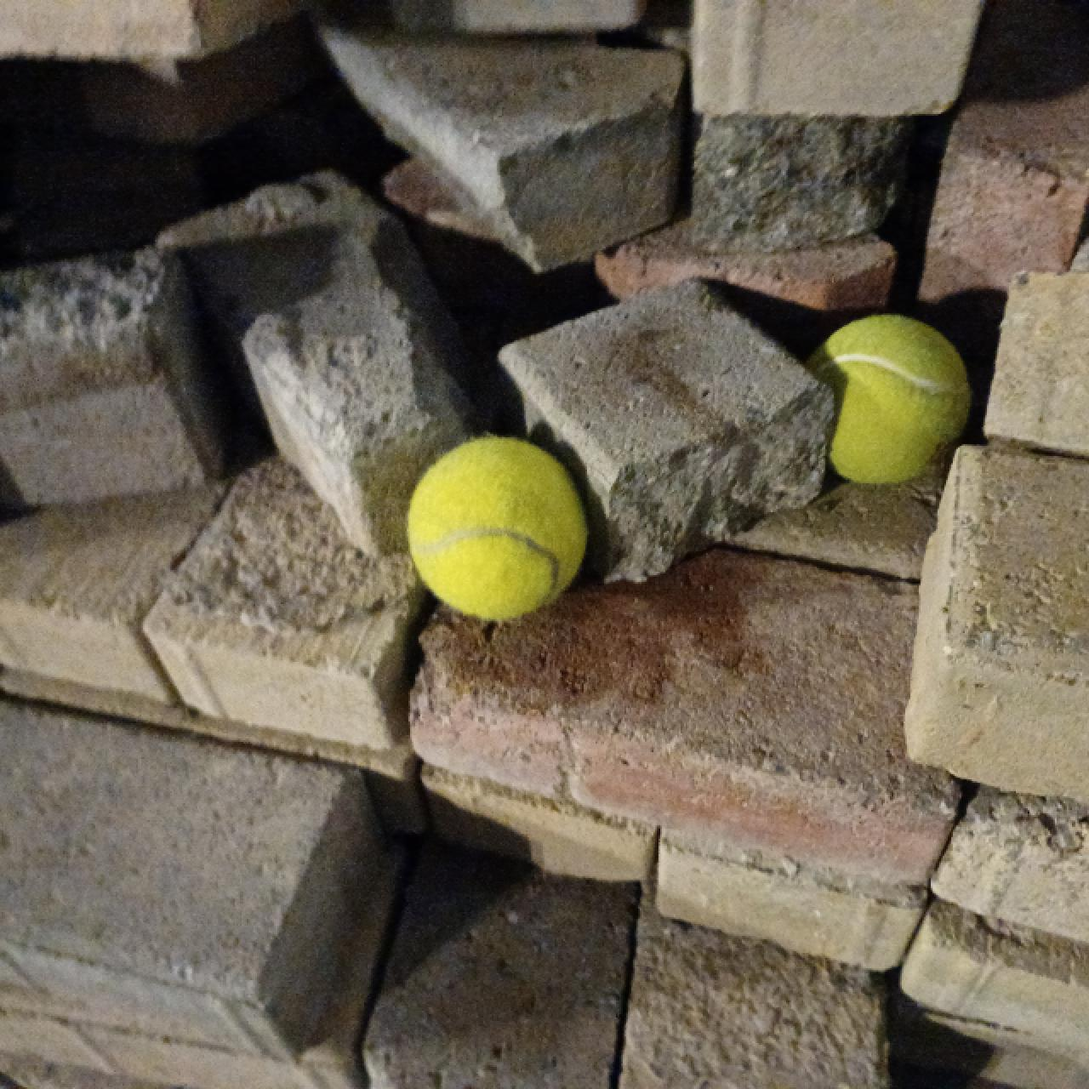tennis-ball: (409, 438, 589, 623), (806, 314, 970, 486)
